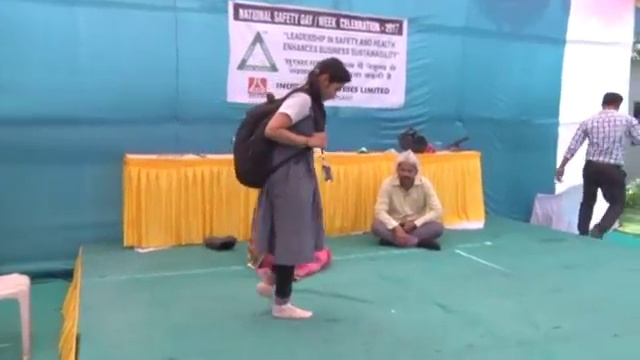helmet_off: (305, 58, 352, 102), (395, 150, 420, 189), (600, 93, 624, 113)
person: (231, 58, 354, 321), (553, 92, 640, 242), (368, 148, 447, 252)
